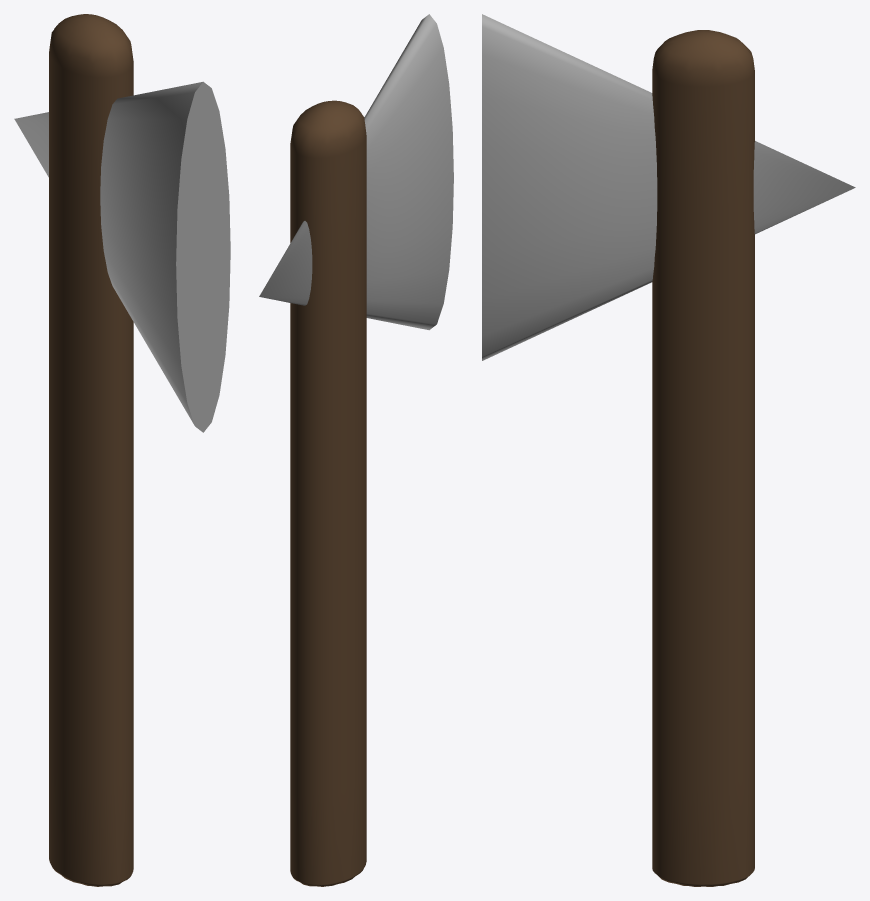
File: axe.fbx
3 renders of one model, left to right at view 1: azimuth 30°, elevation 25°; view 2: azimuth 150°, elevation 25°; view 3: azimuth 270°, elevation 25°, orthographic. The views are drawn at different scales.
Visible parts, largest first — view 1: pCylinder1, pCone1; view 2: pCylinder1, pCone1; view 3: pCylinder1, pCone1.
Part boxes in pixels (bbox=[...]): pCylinder1: bbox=[49, 14, 133, 886]; pCone1: bbox=[14, 81, 230, 432]; pCylinder1: bbox=[290, 100, 366, 886]; pCone1: bbox=[259, 14, 453, 330]; pCylinder1: bbox=[652, 30, 754, 886]; pCone1: bbox=[482, 14, 855, 360].
Bounding box in the file's own units: 1.47 × 18.24 × 7.19.
